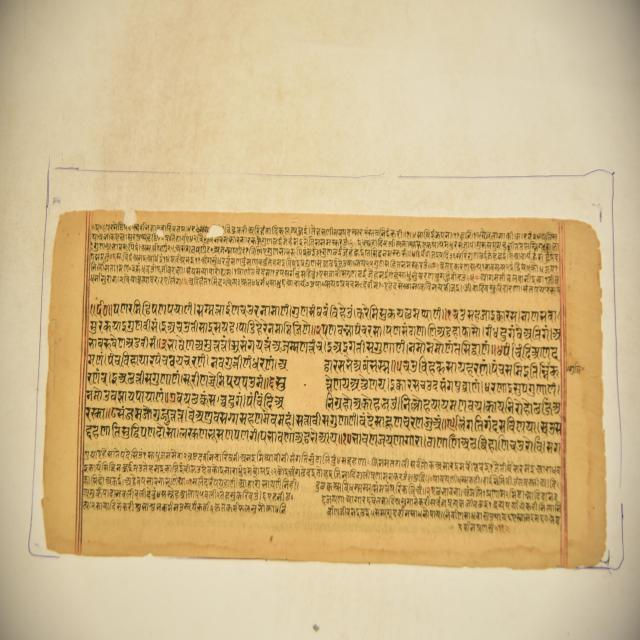text_paragraph: (41, 210, 604, 575)
